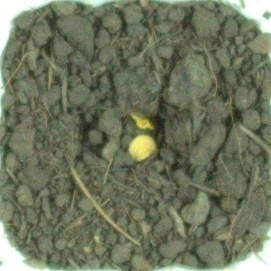chilli seed: (126, 132, 158, 163), (128, 106, 159, 134)
